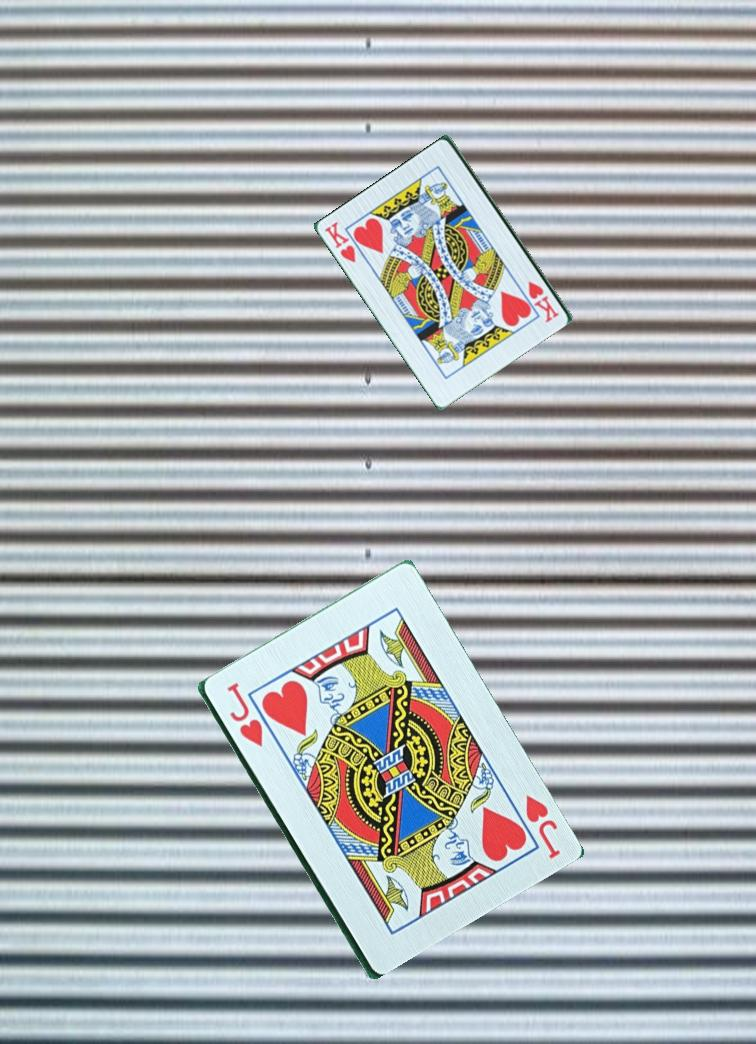jh: (222, 680, 266, 750), (521, 791, 563, 862)
kh: (524, 277, 563, 325), (321, 218, 360, 266)
